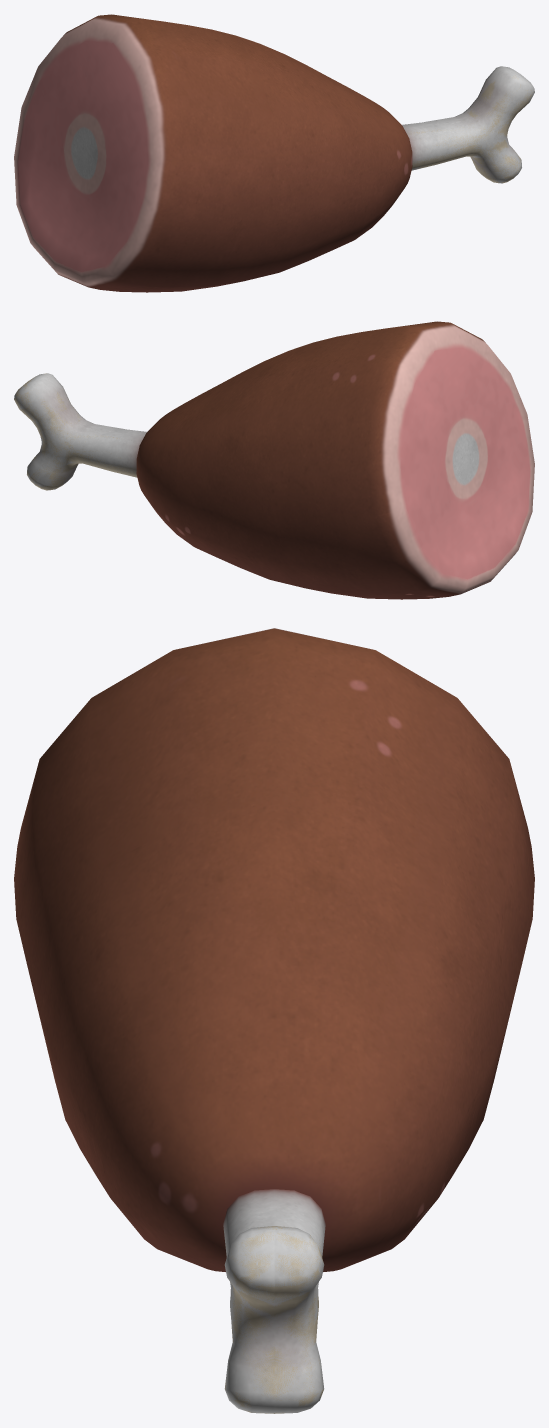
Rendered from cordero terminado 1.fbx.
3 renders of one model, top to bottom at view 1: azimuth 30°, elevation 25°; view 2: azimuth 150°, elevation 25°; view 3: azimuth 270°, elevation 25°, orthographic. The views are drawn at different scales.
Visible parts, largest first — view 1: Cordero entero, Cordero partido carne.001, Cordero partido carne; view 2: Cordero entero, Cordero partido carne.001, Cordero partido carne; view 3: Cordero entero, Cordero partido carne.001, Cordero partido carne.
Boxes of the visible parts, x1,y1,x2,y2 form: Cordero entero: (59, 15, 534, 292); Cordero partido carne.001: (14, 14, 277, 291); Cordero partido carne: (309, 75, 533, 259); Cordero entero: (14, 322, 507, 599); Cordero partido carne.001: (271, 321, 534, 599); Cordero partido carne: (14, 373, 239, 567); Cordero entero: (14, 629, 534, 1413); Cordero partido carne.001: (14, 628, 534, 1067); Cordero partido carne: (89, 916, 480, 1413).
Bounding box in the file's own units: 307 × 168 × 158.
